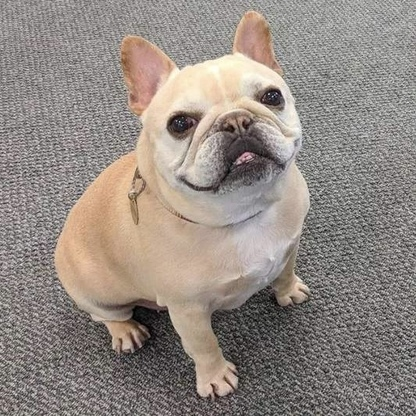bulldog: (52, 8, 313, 401)
